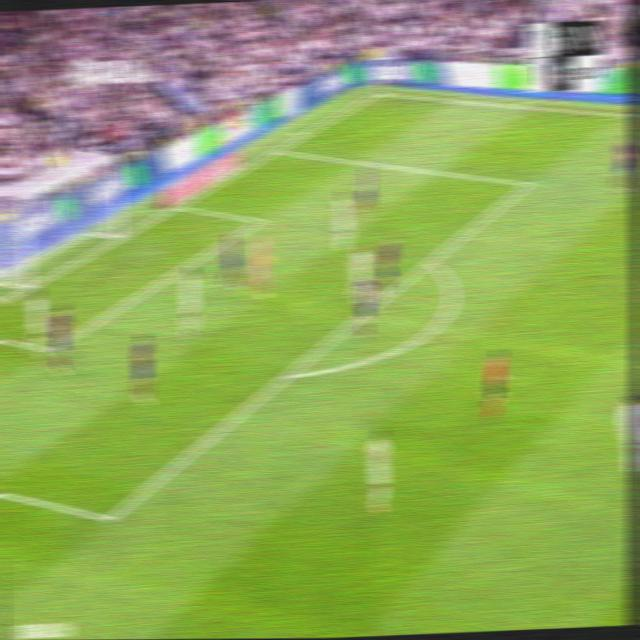bigarea_bottom_inner: (99, 500, 121, 535)
bigarea_top_outter: (269, 140, 284, 157)
bottom_arc_area_intersection: (277, 359, 298, 388)
corner: (369, 85, 386, 99)
smallarea_bottom_inner: (42, 339, 57, 357)
smallarea_top_inner: (250, 210, 267, 228)
top_arc_area_intersection: (420, 249, 438, 270)
